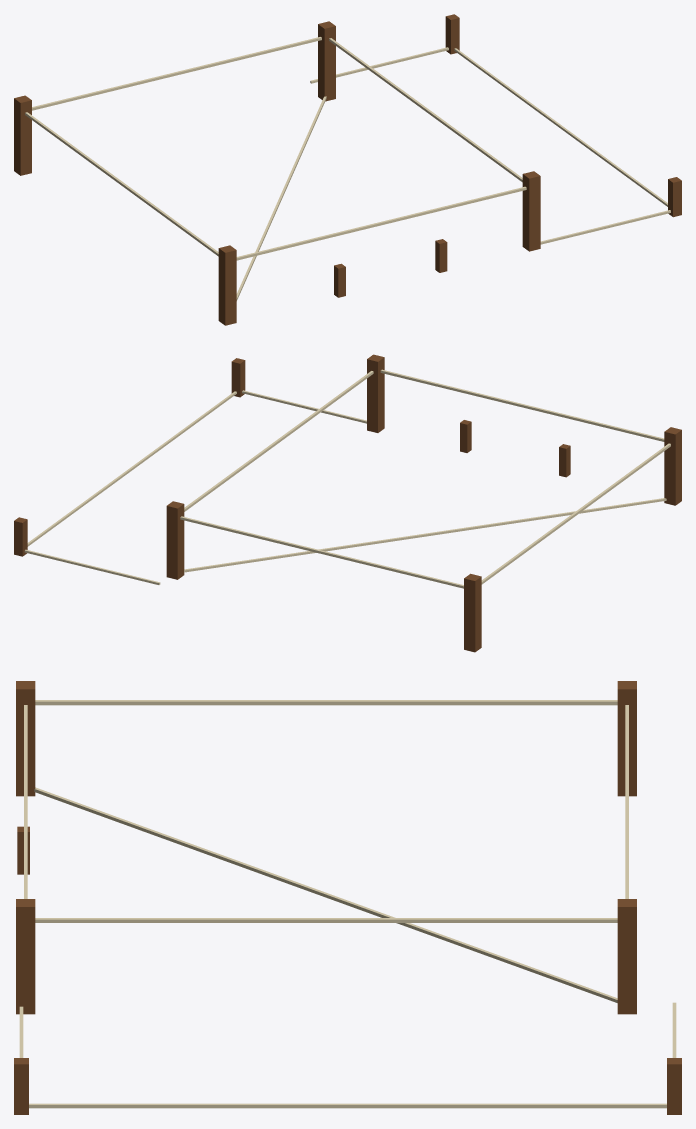
The model's file is goat-shelter-planned.glb.
3 renders of one model, top to bottom at view 1: azimuth 30°, elevation 25°; view 2: azimuth 150°, elevation 25°; view 3: azimuth 270°, elevation 25°, orthographic. The views are drawn at different scales.
Parts seen in each view (by area): view 1: stakes, string_lines; view 2: string_lines, stakes; view 3: string_lines, stakes.
Boxes of the visible parts, x1,y1,x2,y2 form: stakes: [14, 14, 681, 325]; string_lines: [25, 37, 670, 300]; string_lines: [24, 369, 670, 588]; stakes: [14, 354, 681, 652]; string_lines: [19, 700, 676, 1108]; stakes: [14, 681, 681, 1114].
Bounding box in the file's own units: 3.6 × 0.55 × 3.11.
